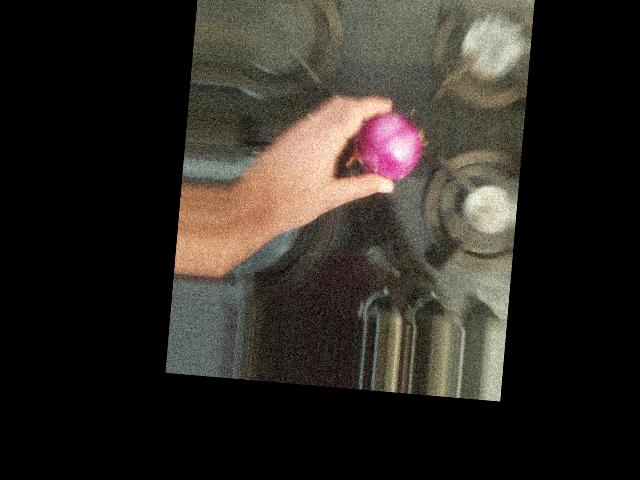onion: (334, 109, 420, 201)
